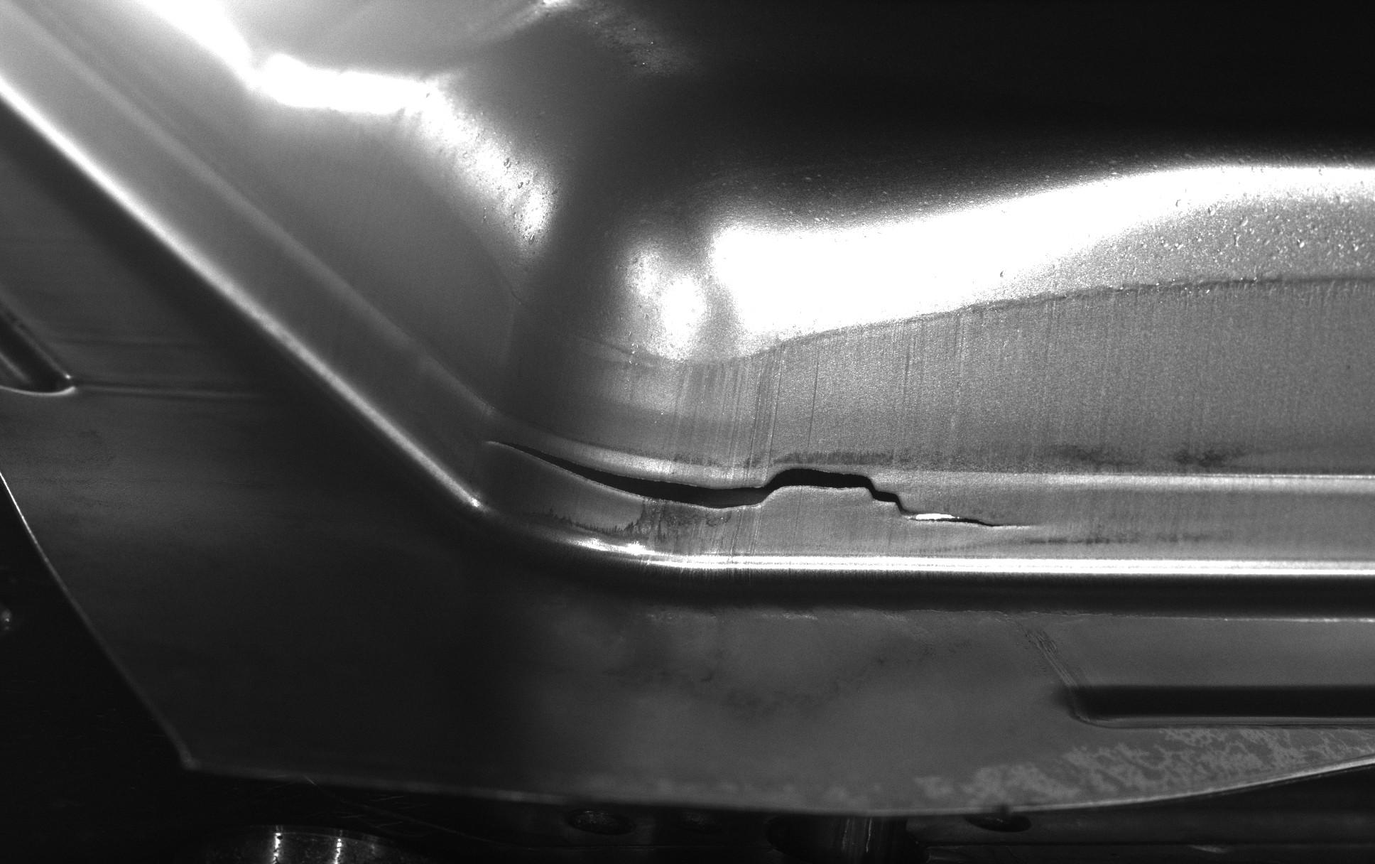crack: (455, 320, 1060, 540)
